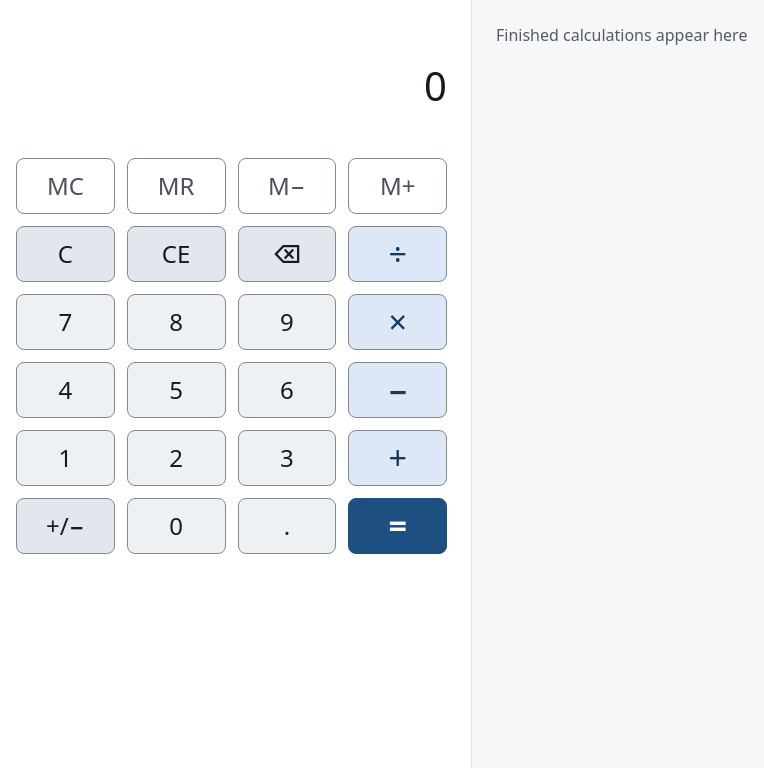
Test case: S-2 Use the on-screen keys › AC-2.17: C in an error shows 0
This screenshot has width=764, height=768.
Click the button "5" at (176, 390), box left=127, top=362, right=226, bottom=418
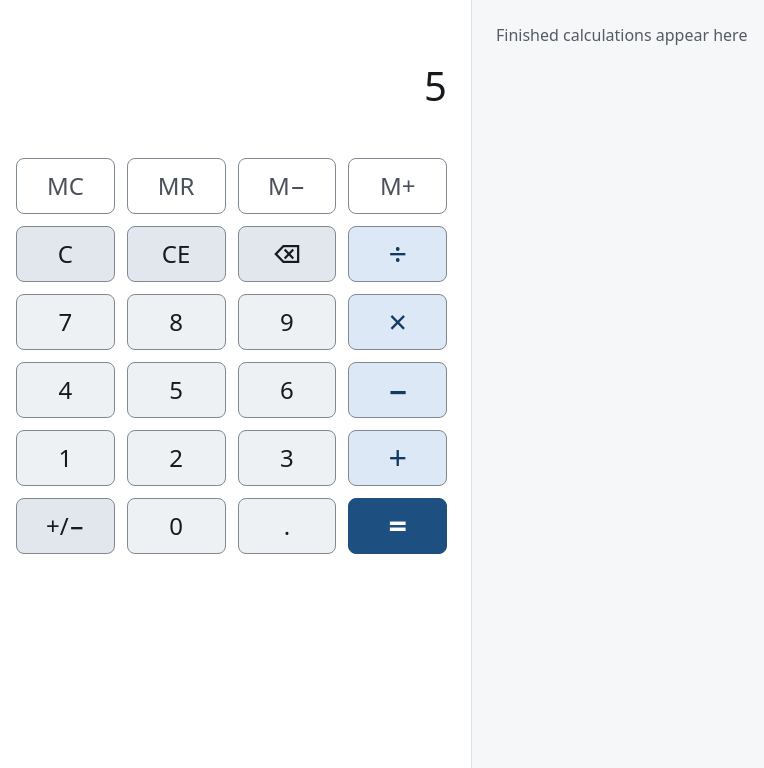
Click the button named "divide" at (398, 254), box left=348, top=226, right=447, bottom=282
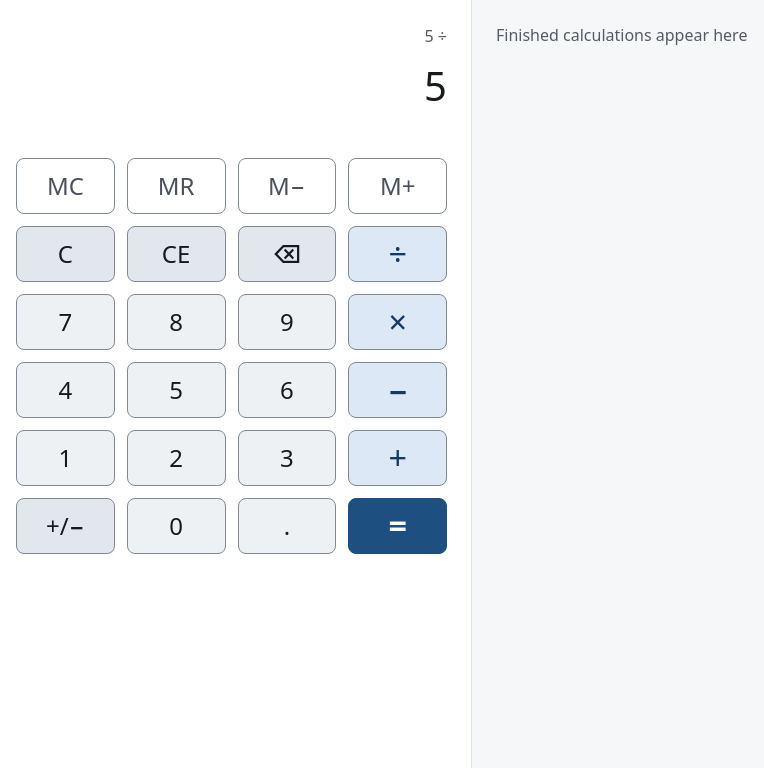
Click the button "0" at (176, 526), box left=127, top=498, right=226, bottom=554
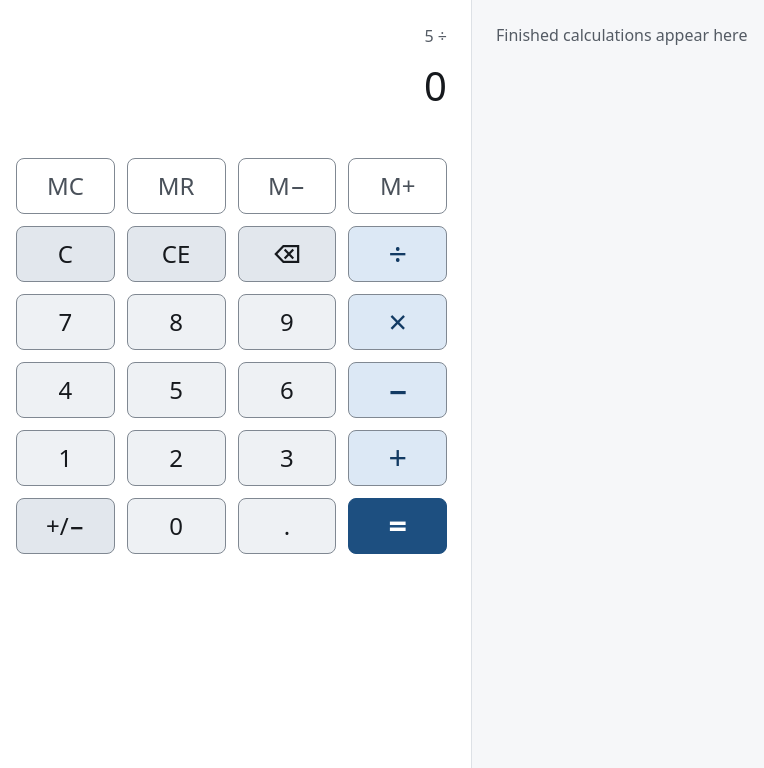
Click the button named "equals" at (398, 526), box left=348, top=498, right=447, bottom=554
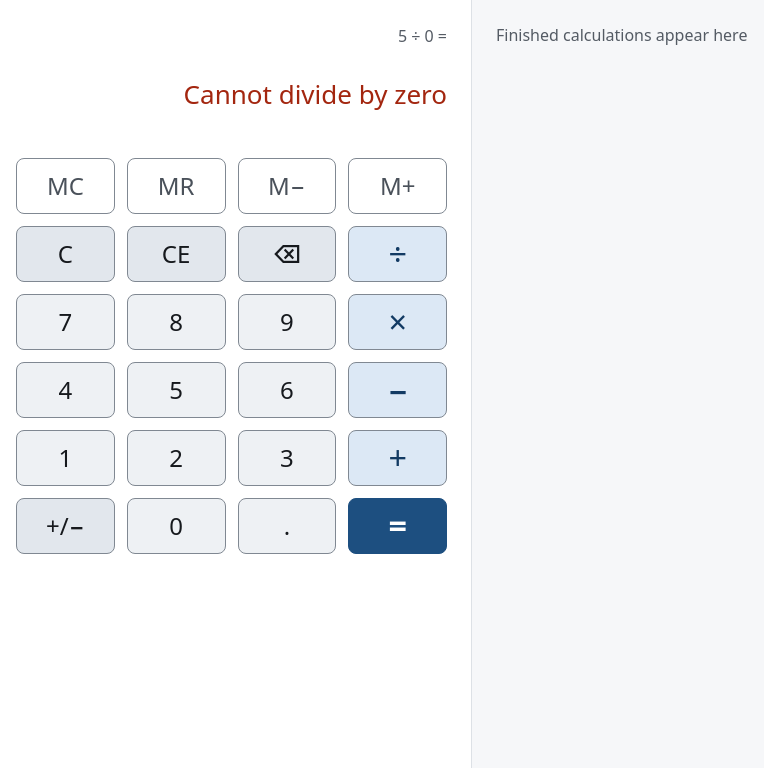
Click the button named "clear" at (65, 254), box left=16, top=226, right=115, bottom=282
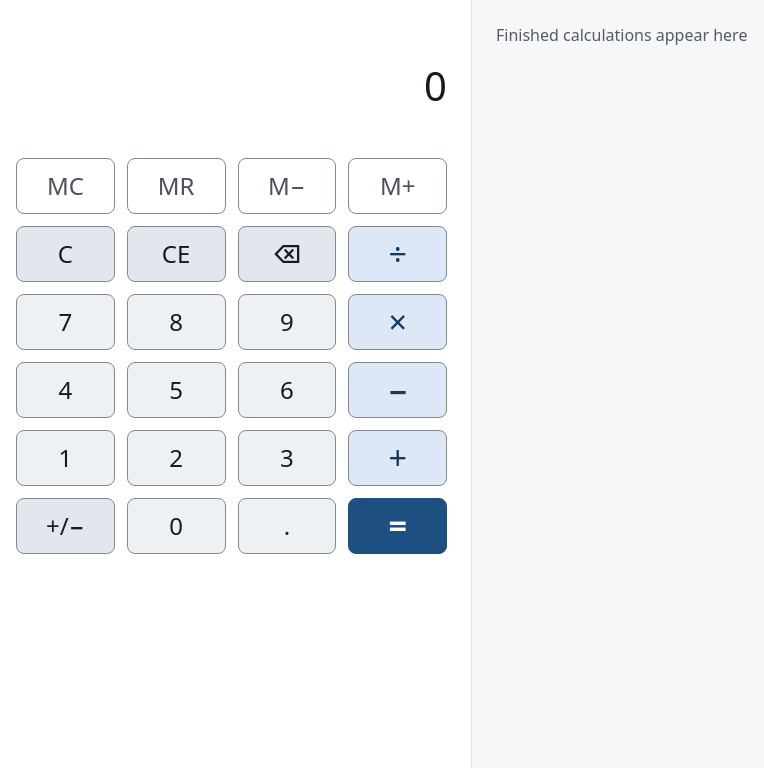
Expected: the message reads "0", left=424, top=58, right=447, bottom=113
